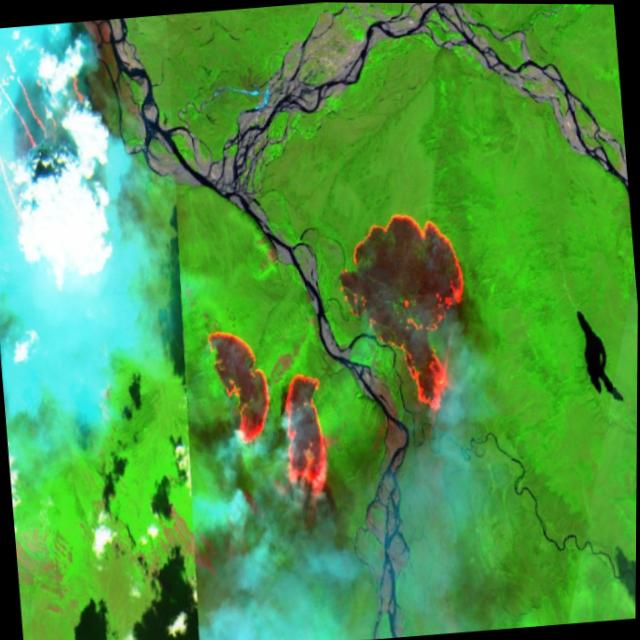fire: (328, 197, 481, 429), (201, 316, 340, 515), (0, 19, 105, 239)
